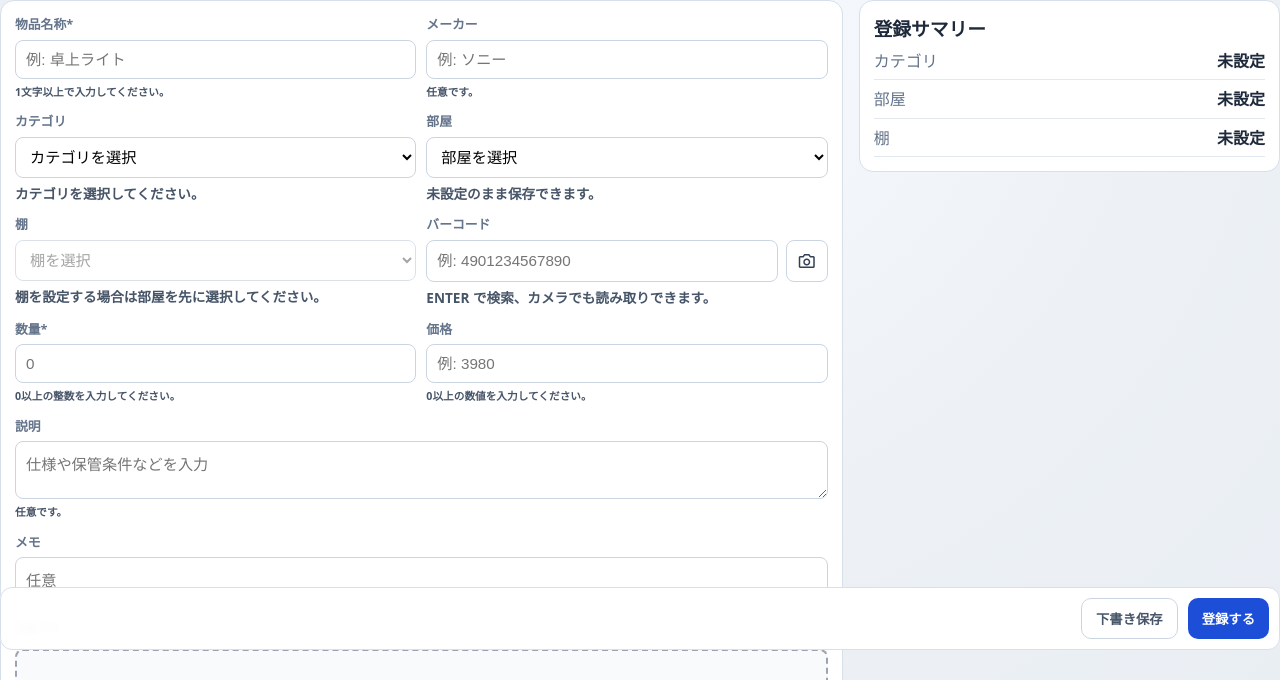
ItemForm barcode › レートリミット時に失敗メッセージを表示する
Type "4901234567890" into the field named "barcode" at (602, 261), box x1=426 y1=240 x2=778 y2=282
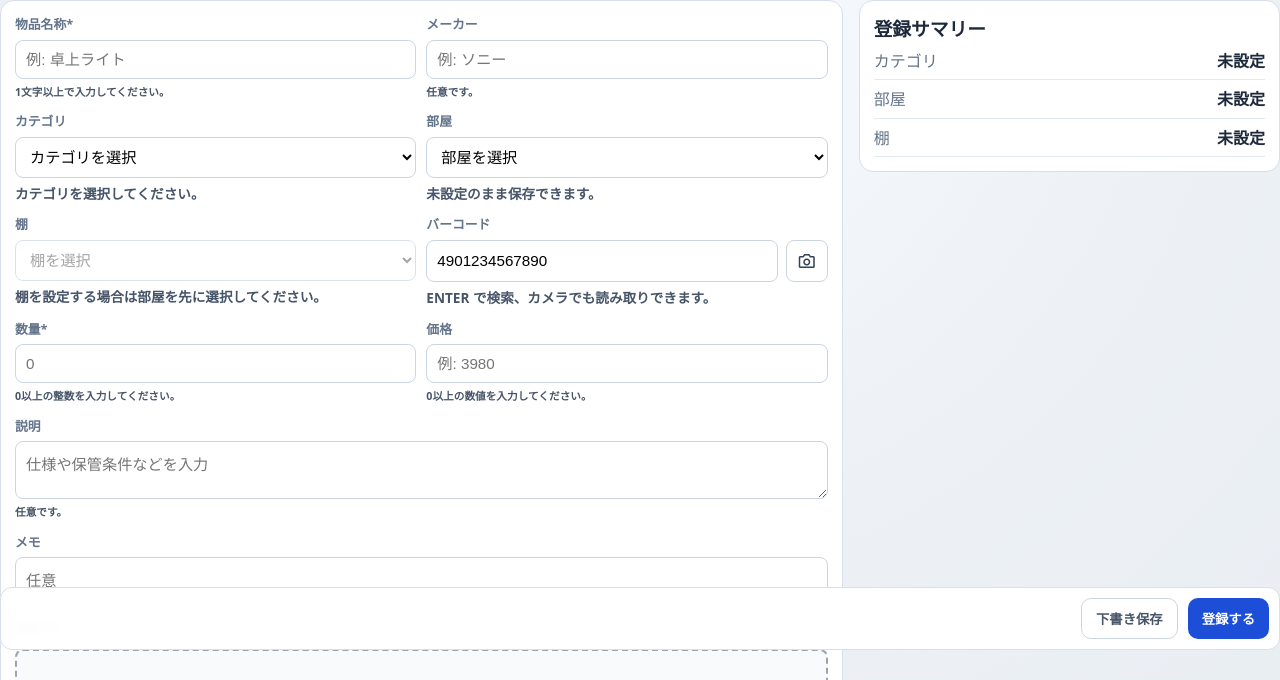
Press Enter in the field named "barcode", box x1=426 y1=240 x2=778 y2=282
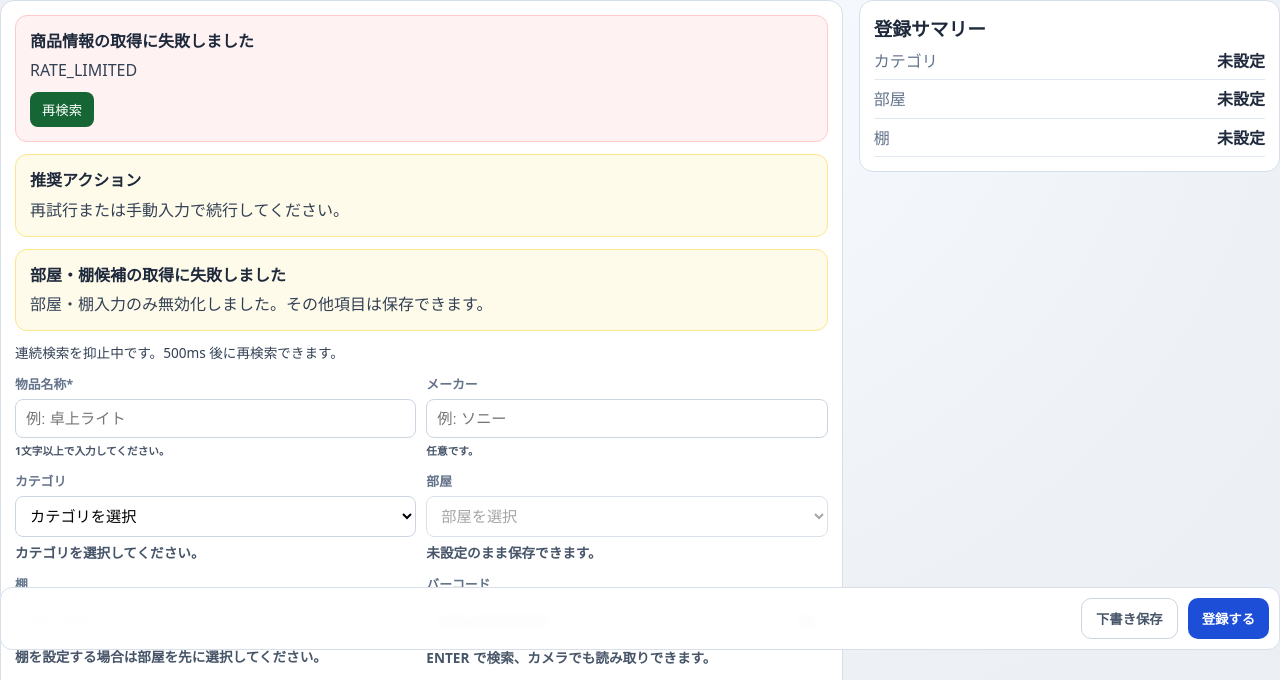
Expected: the text "RATE_LIMITED" is shown, x1=30 y1=59 x2=137 y2=81
Expected: the text "推奨アクション" is shown, x1=30 y1=169 x2=141 y2=191
